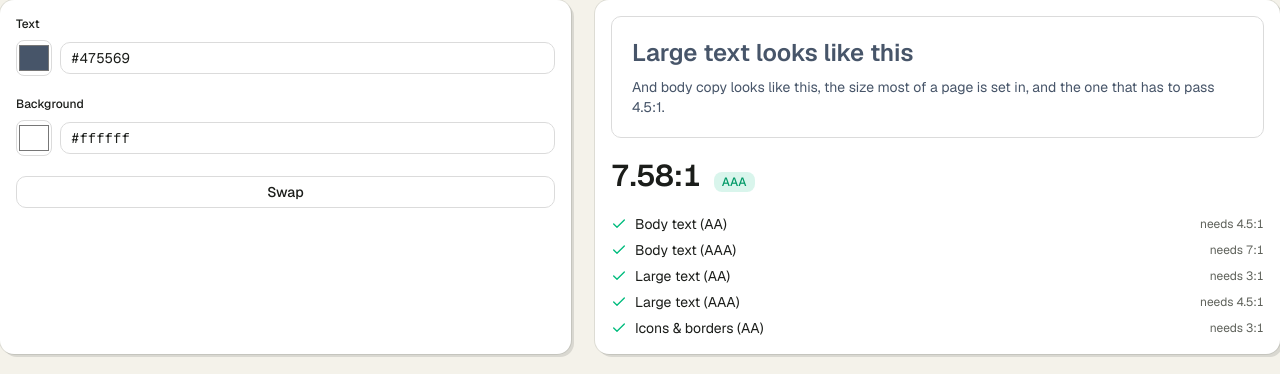
Test: ContrastCheckerTool › reports the ratio and grade for the current pair
Step 1. Clear the field labelled "Text" → (307, 58), box [60,42,555,74]
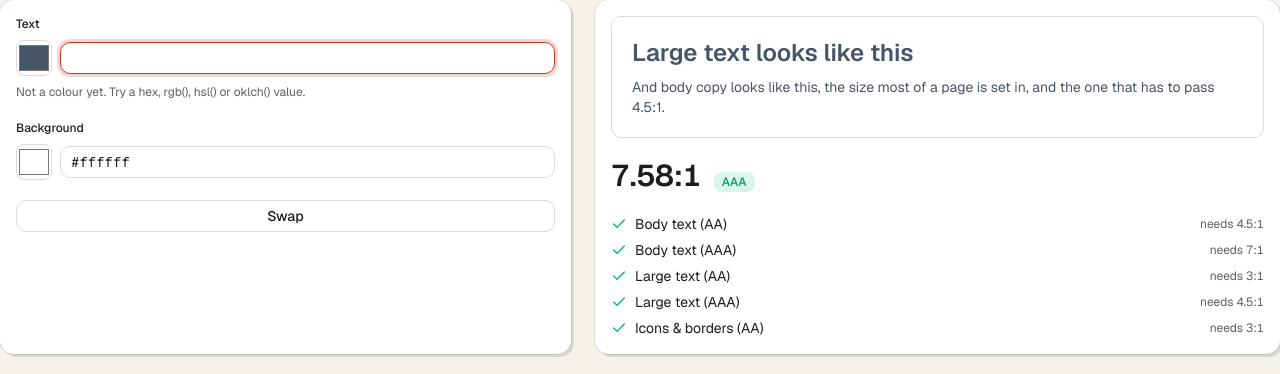
Step 2. Type keys "#000000"
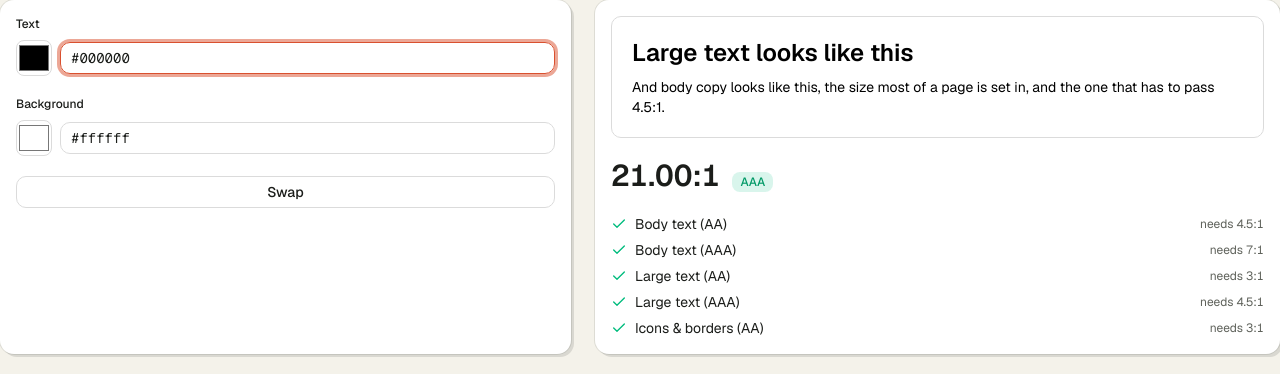
Expected: the text "AAA" is shown, [732,172,773,192]
Expected: the text "21.00:1" is shown, [611,158,720,194]
